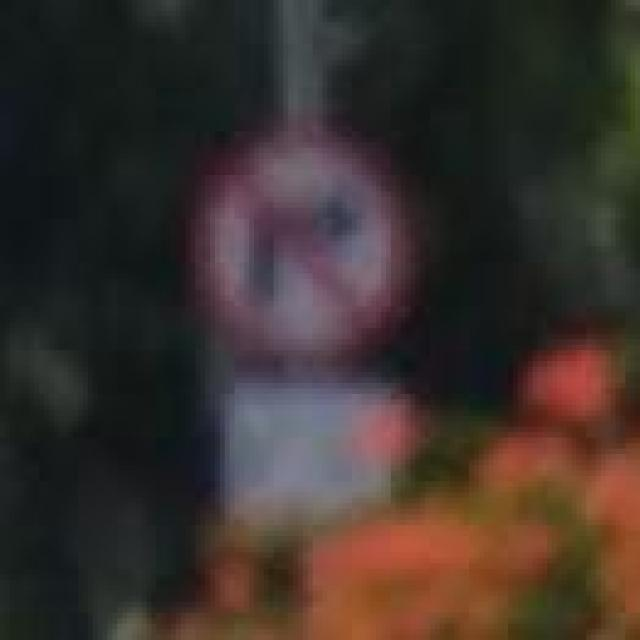traffic sign: (205, 137, 406, 372)
